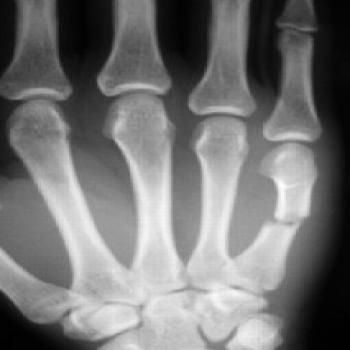Fracture: (253, 203, 325, 237)
